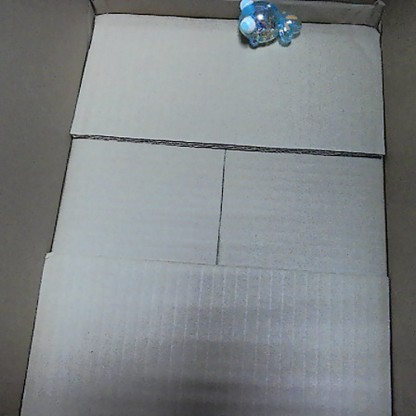bluefish: (232, 0, 307, 51)
